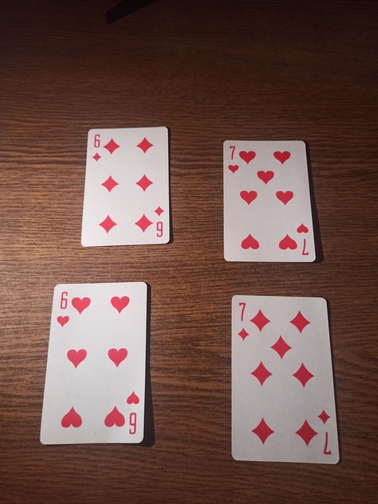sevendiamonds: (229, 292, 340, 464)
sevenhearts: (221, 137, 317, 263)
sixdiamonds: (78, 124, 172, 246)
sixhearts: (39, 282, 150, 444)
